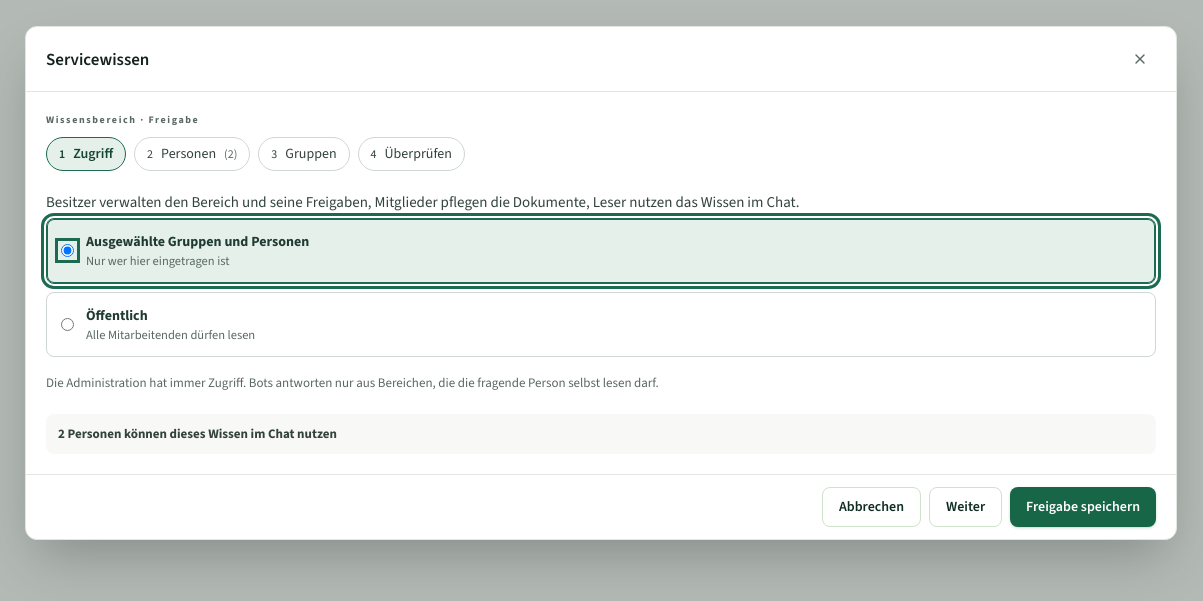
Scenario: blocks saving without an owner
Click the button "3 Gruppen" at (304, 154), box [258,137,350,171]
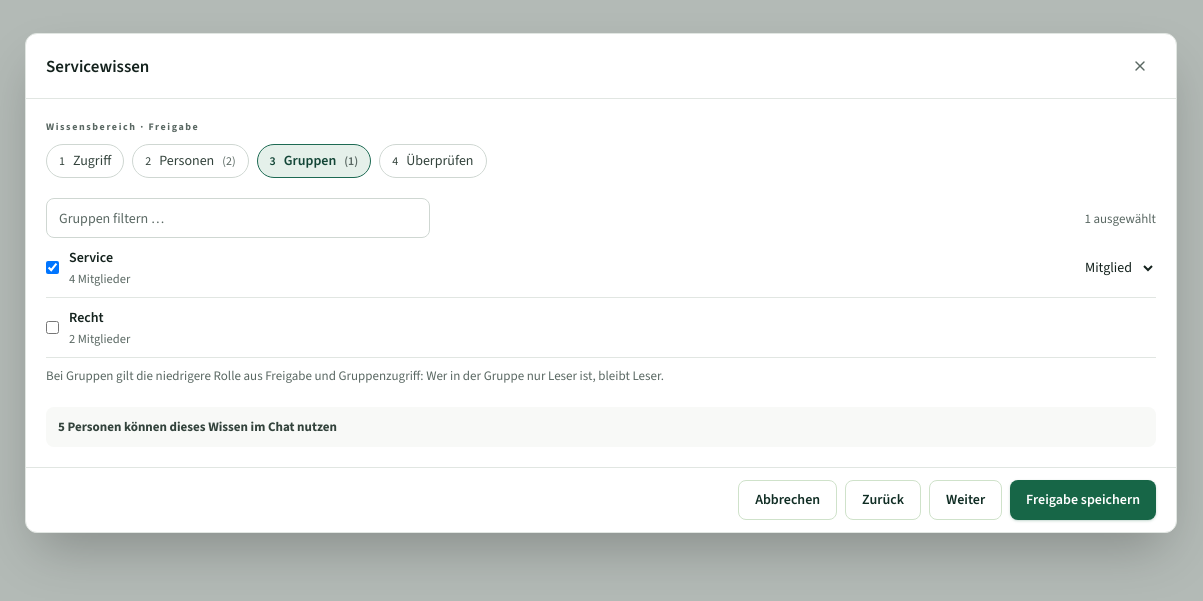
Check: the checkbox labelled "Service 4 Mitglieder" is shown, box [46,261,59,274]
Click the button "2 Personen (2)" at (190, 161), box [132,144,249,178]
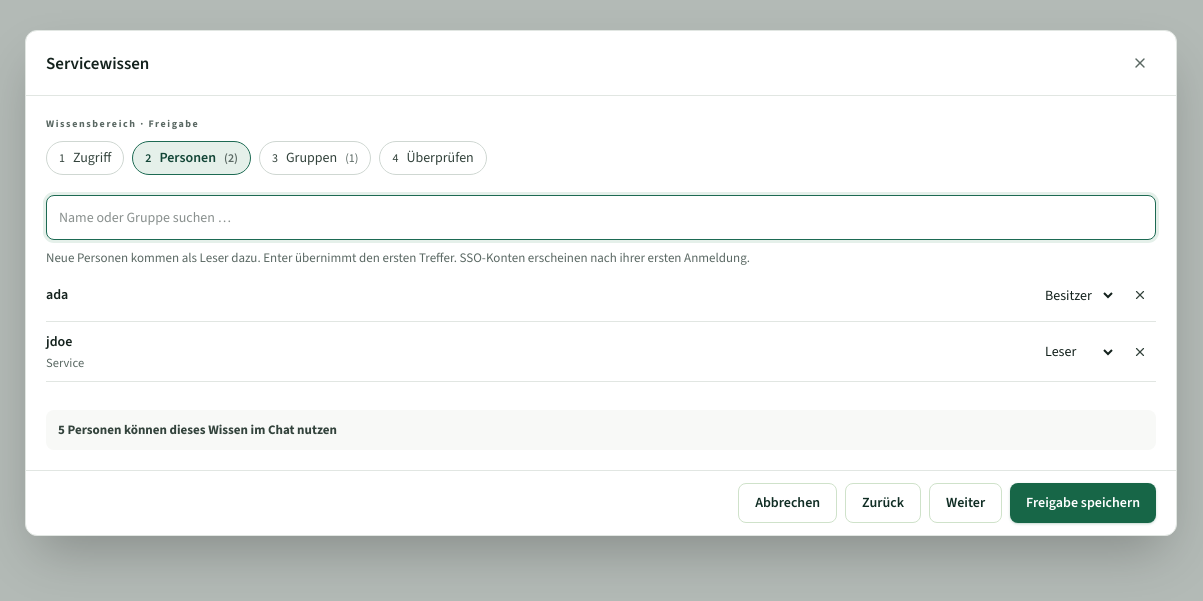
Select "Mitglied" in the dropdown named "Rolle von ada" at (1074, 295), box [1033,279,1116,311]
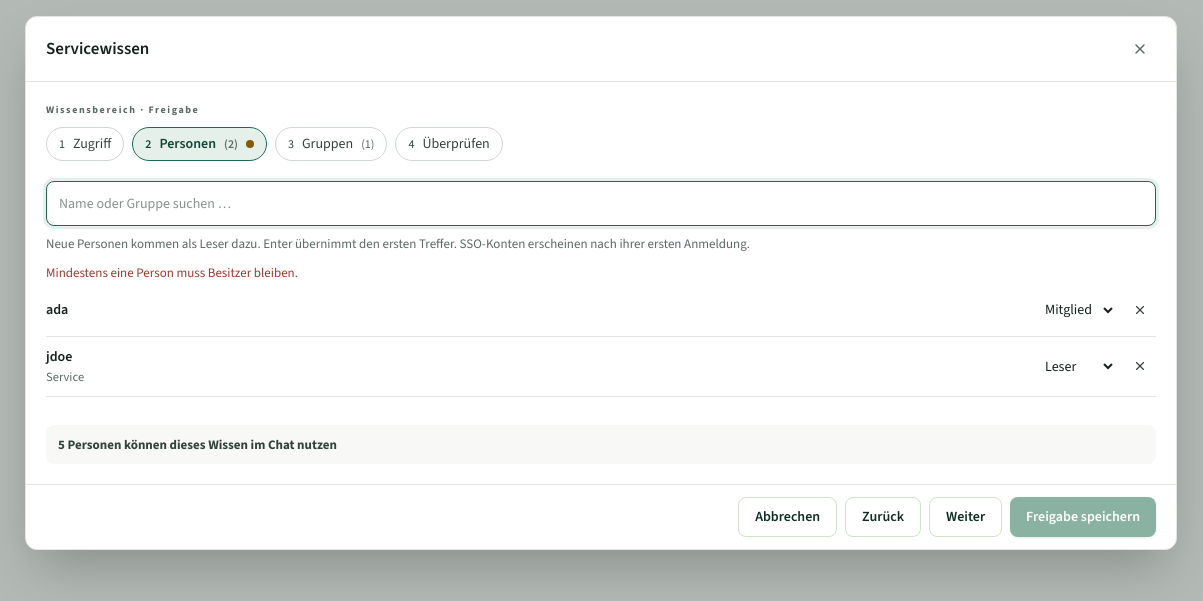
Check: the message shows "Besitzer", box [46,264,298,281]
Check: the button "Freigabe speichern" is disabled, box [1010,497,1156,537]
